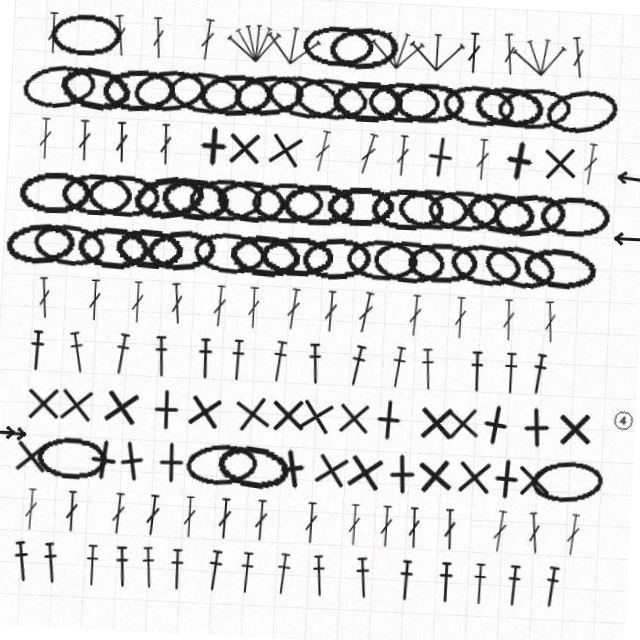chain: (532, 72, 610, 126), (253, 72, 332, 125), (478, 231, 555, 285), (9, 73, 88, 125), (124, 178, 201, 231), (120, 73, 198, 124), (46, 73, 122, 125), (220, 73, 297, 124), (485, 180, 562, 230), (458, 180, 533, 230), (28, 233, 104, 282), (191, 445, 267, 494), (222, 445, 298, 494), (0, 233, 75, 282), (141, 233, 216, 282), (445, 233, 520, 282), (156, 75, 232, 123), (282, 75, 358, 123), (537, 446, 613, 494), (314, 22, 388, 70), (519, 234, 594, 281), (462, 75, 536, 122), (209, 181, 283, 228), (297, 234, 371, 281), (90, 76, 165, 122), (187, 76, 262, 122), (431, 76, 506, 122), (486, 76, 561, 122), (189, 235, 263, 281), (369, 235, 444, 280), (225, 235, 298, 281), (154, 182, 226, 228), (73, 235, 146, 280), (12, 183, 85, 227), (81, 183, 154, 227), (245, 183, 318, 227), (111, 235, 182, 280), (183, 183, 257, 226), (36, 24, 108, 68), (276, 183, 349, 226), (422, 183, 495, 226), (343, 236, 416, 279), (320, 183, 391, 227), (383, 77, 455, 120), (404, 236, 476, 279), (43, 448, 115, 491), (365, 184, 438, 226), (257, 237, 330, 279), (392, 183, 463, 226), (357, 78, 429, 120), (534, 184, 606, 226), (289, 25, 360, 67), (321, 78, 392, 120), (55, 184, 126, 226)
double: (348, 130, 372, 174), (304, 130, 325, 173), (355, 289, 376, 332), (556, 24, 575, 67), (98, 24, 116, 67), (185, 24, 203, 67), (574, 130, 592, 173), (284, 289, 302, 332), (501, 501, 519, 544), (574, 501, 592, 544), (488, 24, 505, 67), (168, 289, 185, 332), (536, 501, 553, 544), (35, 290, 52, 332), (154, 502, 171, 544), (137, 25, 153, 67), (211, 290, 227, 332), (407, 290, 423, 332), (542, 290, 558, 332), (120, 502, 136, 544), (106, 131, 121, 173), (150, 131, 165, 173), (387, 131, 402, 173), (467, 131, 482, 173), (323, 290, 338, 332), (501, 290, 516, 332), (33, 502, 48, 544), (227, 502, 242, 544), (263, 502, 278, 544), (452, 502, 467, 544), (33, 25, 47, 67), (454, 25, 468, 67), (30, 131, 44, 173), (69, 131, 83, 173), (87, 290, 101, 332), (130, 290, 144, 332), (246, 290, 260, 332), (453, 290, 467, 332), (74, 502, 88, 544), (192, 502, 206, 544), (314, 502, 328, 544), (357, 502, 371, 544), (389, 502, 403, 544), (417, 502, 431, 544)
fan: (250, 22, 310, 70), (497, 22, 557, 69), (212, 22, 271, 69), (356, 24, 413, 67), (396, 25, 452, 67)
half_double: (68, 342, 91, 386), (348, 342, 371, 386), (113, 342, 134, 385), (390, 342, 411, 385), (531, 342, 552, 385), (23, 554, 44, 597), (271, 342, 291, 385), (53, 554, 73, 597), (217, 554, 237, 597), (554, 554, 574, 597), (151, 554, 170, 597), (286, 554, 305, 597), (322, 554, 341, 597), (366, 554, 385, 597), (154, 343, 172, 385), (308, 343, 326, 385), (421, 343, 439, 385), (125, 555, 143, 597), (250, 555, 268, 597), (517, 555, 535, 597), (30, 343, 47, 385), (231, 343, 248, 385), (410, 555, 427, 597), (199, 343, 215, 385), (471, 343, 487, 385), (505, 343, 521, 385), (96, 555, 112, 597), (181, 555, 197, 597), (450, 555, 466, 597), (484, 555, 500, 597)
noise: (616, 394, 639, 417), (0, 440, 34, 455), (607, 156, 638, 171), (607, 217, 640, 231), (0, 440, 23, 455)
single: (296, 392, 345, 441), (314, 445, 363, 494), (253, 128, 301, 176), (185, 393, 233, 441), (233, 393, 281, 441), (115, 446, 163, 494), (276, 446, 324, 494), (348, 446, 396, 494), (488, 128, 535, 175), (102, 393, 149, 440), (477, 393, 524, 440), (87, 447, 133, 493), (419, 447, 465, 493), (410, 129, 455, 174), (58, 394, 103, 439), (445, 394, 490, 439), (530, 130, 574, 174), (519, 395, 563, 439), (16, 448, 60, 492), (387, 448, 431, 492), (492, 448, 536, 492), (184, 130, 227, 173), (26, 395, 69, 438), (271, 395, 314, 438), (337, 395, 380, 438), (372, 395, 415, 438), (558, 395, 601, 438), (157, 448, 200, 491), (460, 448, 503, 491), (520, 448, 563, 491), (215, 131, 257, 173), (150, 396, 192, 438), (420, 396, 462, 438)
